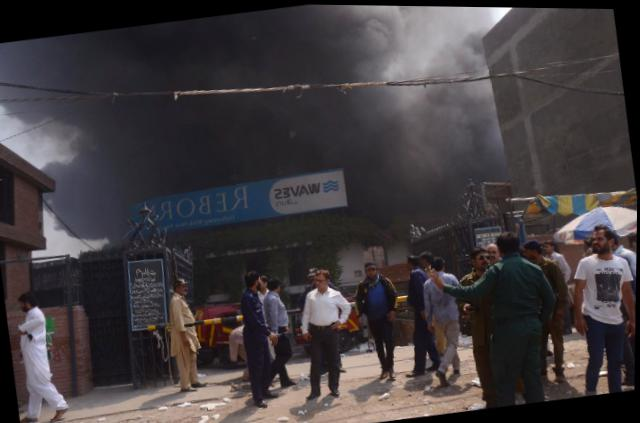smoke: (39, 68, 366, 219), (355, 66, 509, 199), (0, 18, 190, 125), (184, 2, 367, 87), (373, 4, 502, 75), (63, 210, 134, 246)
